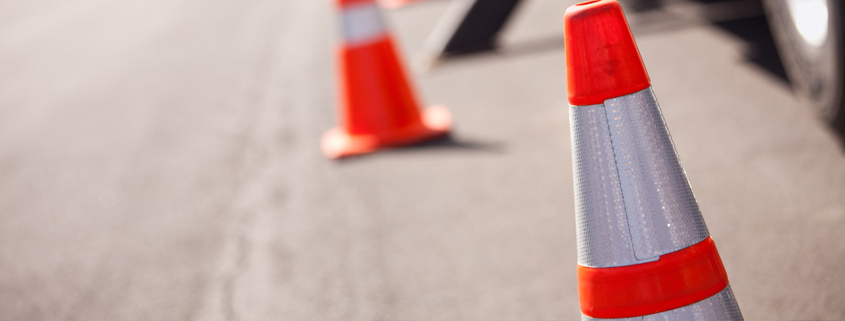cones: (551, 1, 748, 321), (317, 1, 455, 158)
